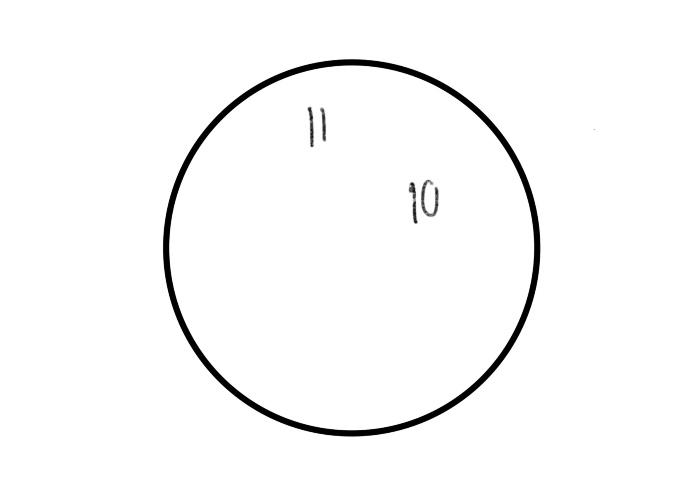eleven: (300, 103, 334, 151)
ten: (404, 175, 443, 229)
